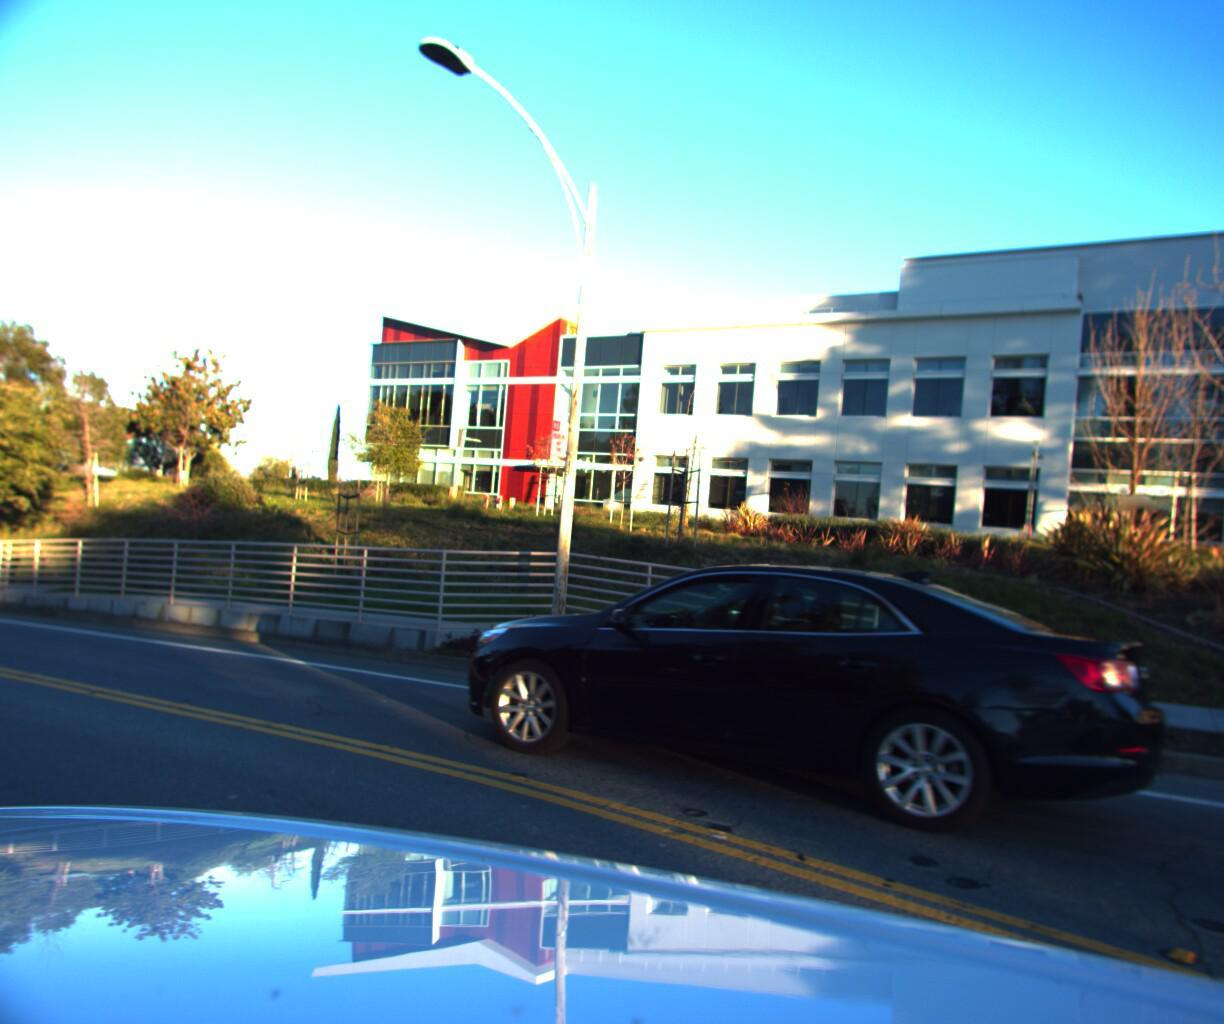car: (438, 526, 1223, 914)
